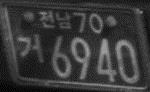0: (115, 38, 140, 84), (88, 11, 103, 34)
4: (95, 36, 116, 82)
6: (51, 34, 72, 79)
7: (72, 11, 86, 34)
9: (70, 36, 90, 80)
거: (16, 34, 44, 65)
전남_O: (39, 10, 72, 29)
